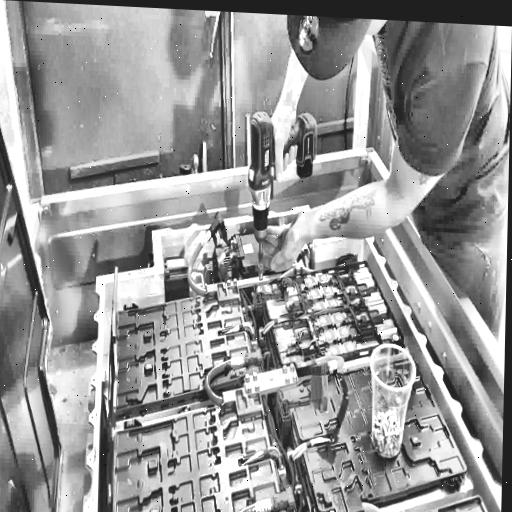high_volt_cable: (184, 209, 228, 299), (199, 358, 270, 413), (223, 482, 296, 512), (296, 352, 348, 384), (334, 496, 395, 512)
low_volt_cable: (239, 422, 331, 477)
nut: (257, 259, 267, 283)
